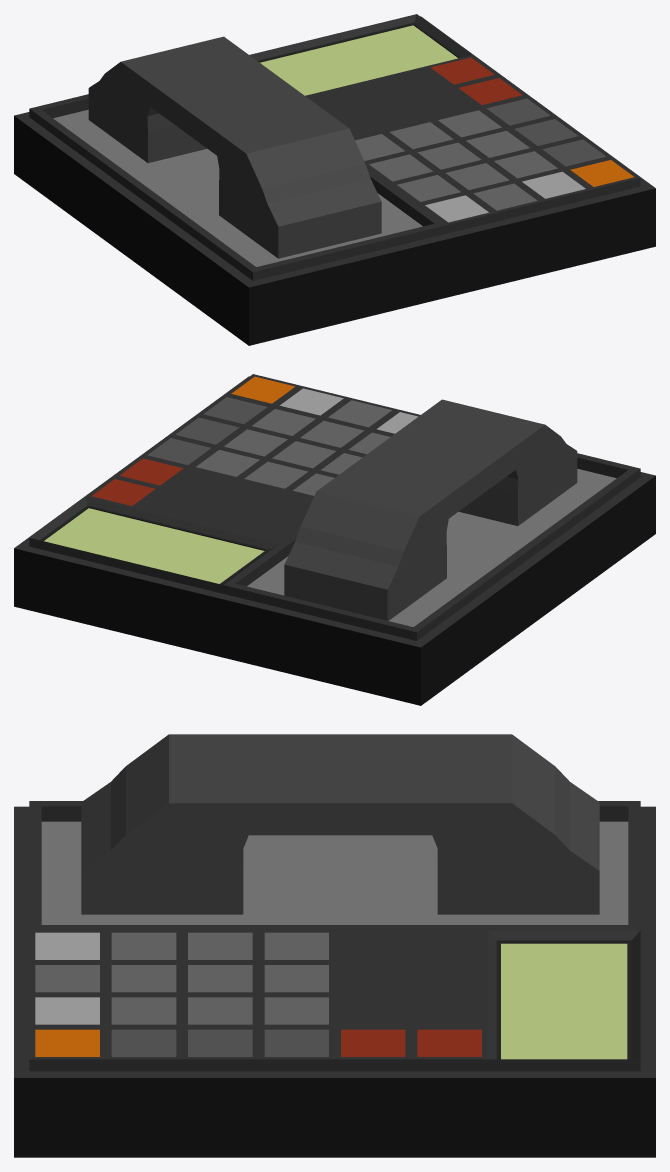
File: Counter Phone #2.fbx
3 renders of one model, top to bottom at view 1: azimuth 30°, elevation 25°; view 2: azimuth 150°, elevation 25°; view 3: azimuth 270°, elevation 25°, orthographic. The views are drawn at different scales.
Visible parts, largest first — view 1: Counter Phone #2; view 2: Counter Phone #2; view 3: Counter Phone #2.
Boxes of the visible parts, box(x1,y1,x2,y2) form: Counter Phone #2: box(14, 14, 655, 345); Counter Phone #2: box(14, 374, 655, 705); Counter Phone #2: box(14, 734, 655, 1157).
Bounding box in the file's own units: 35.88 × 11.59 × 35.88.
1 material, 1 textured.
